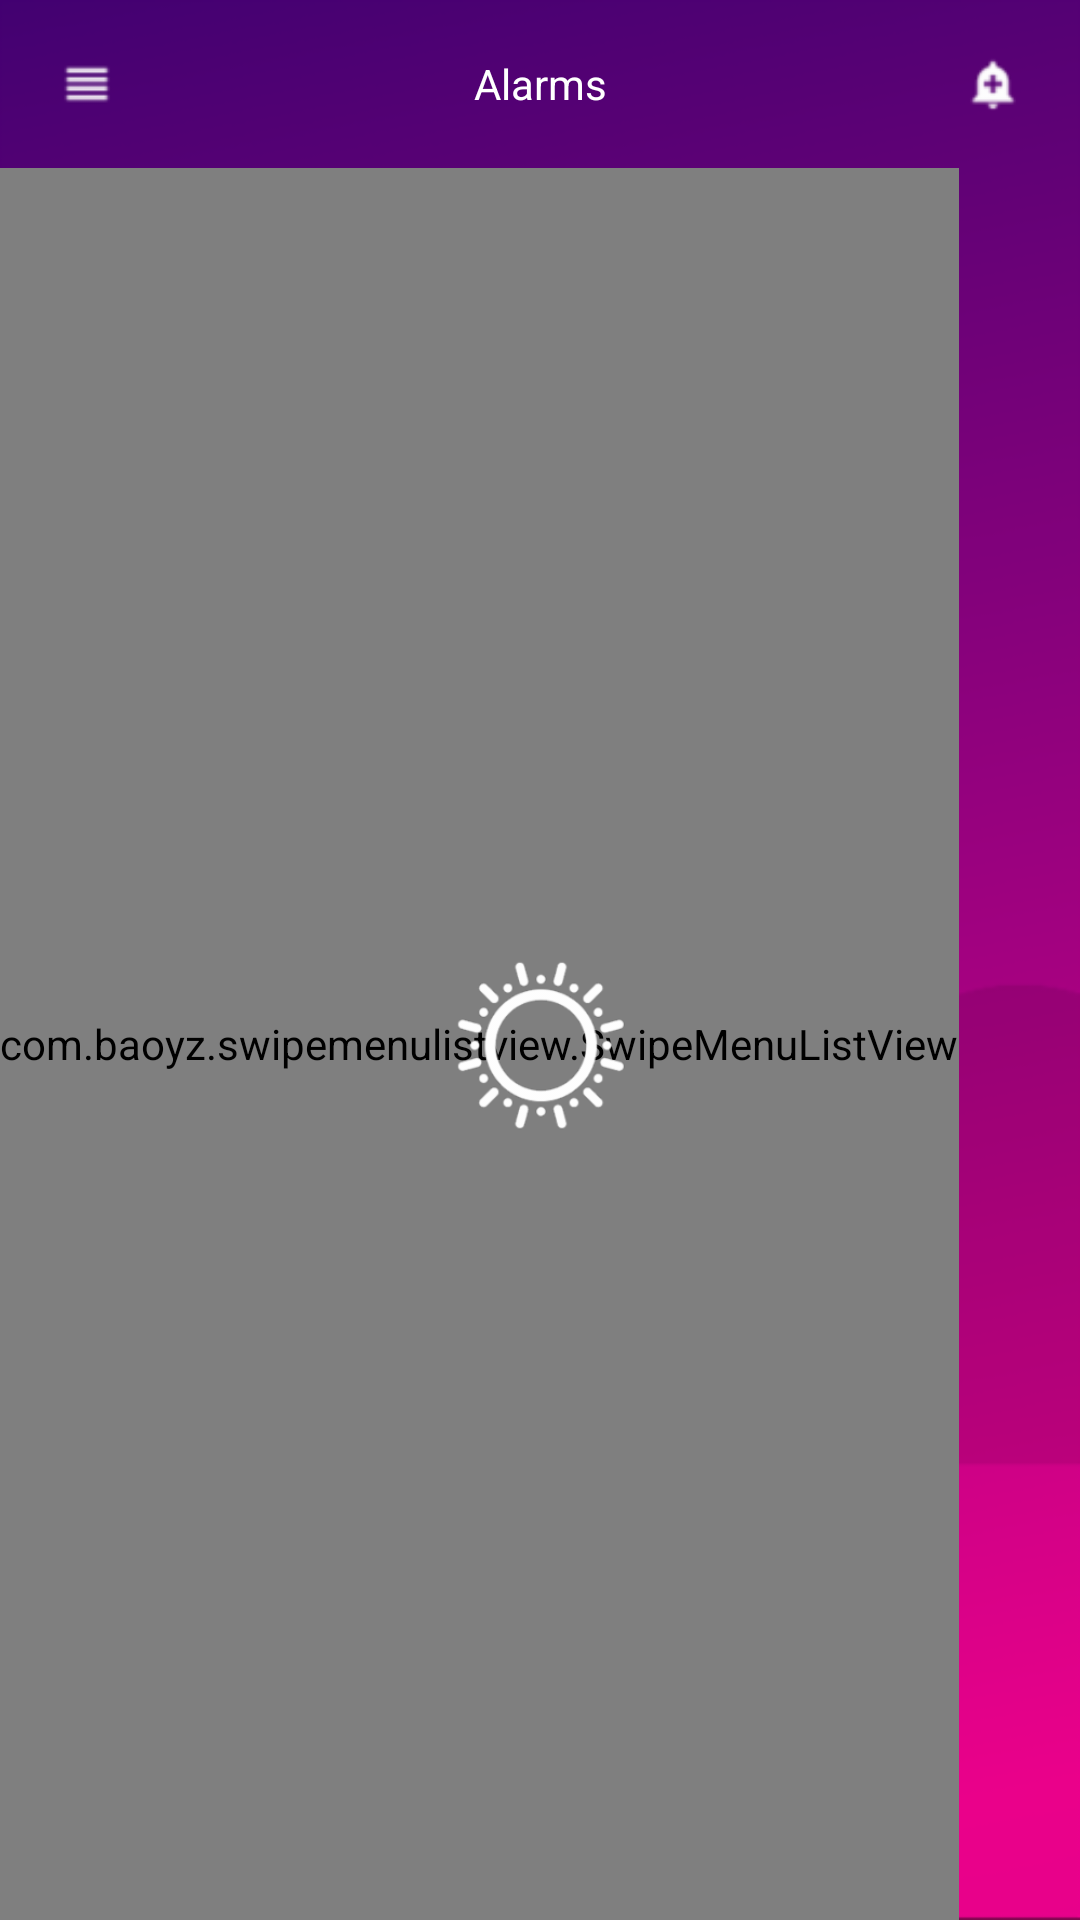

Icons on this 1080w x 1920h Android screen, each with the point to tap as point (x, y):
add alert: point (993, 85)
reorder: point (87, 84)
